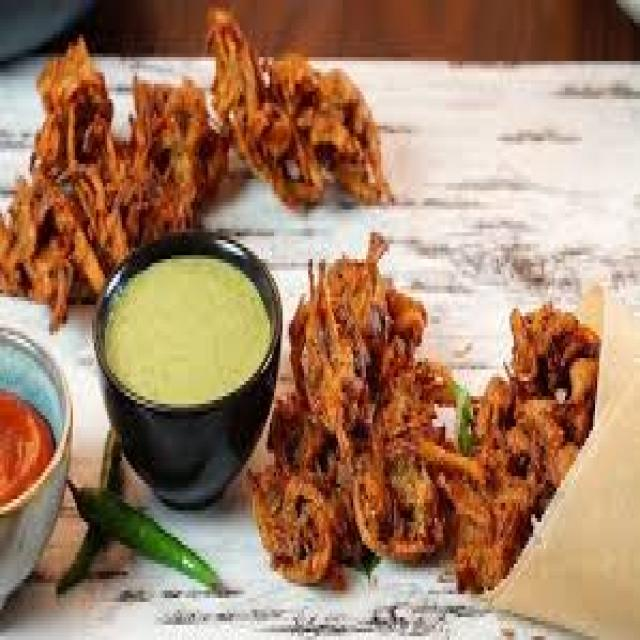BAJI: (250, 238, 613, 587), (0, 0, 389, 308)
